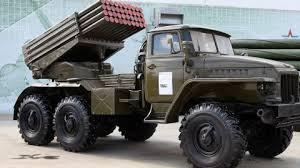MIL_SAM_TEL: (12, 1, 299, 168)
